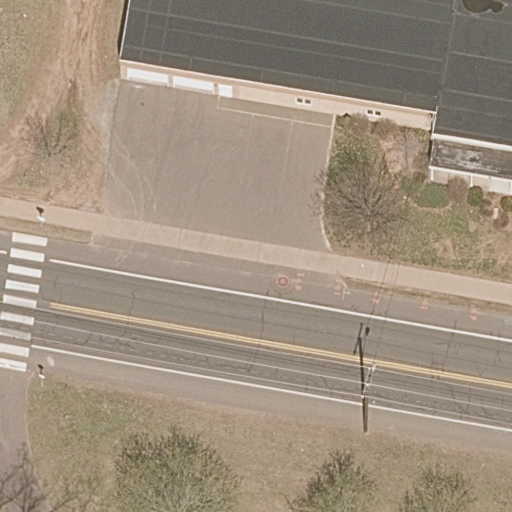DT: (360, 362, 375, 403)
